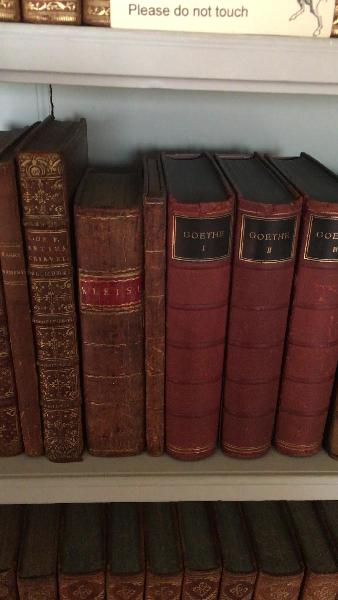Aa6-10: (142, 198, 170, 458)
Aa6-11_13: (170, 198, 338, 467)
Aa6-7: (4, 165, 38, 457)
Aa6-8: (13, 153, 86, 461)
Aa6-9: (71, 202, 147, 462)
